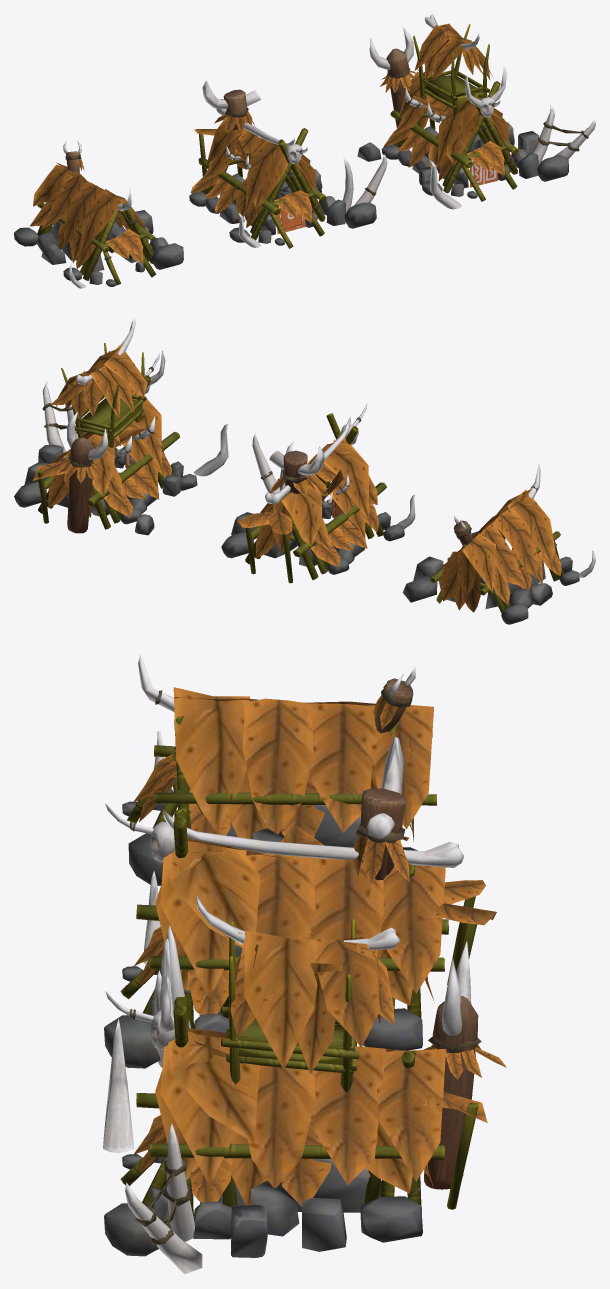
File: 3troops.fbx
3 views of the same model, one above another, from view 1: azimuth 30°, elevation 25°; view 2: azimuth 150°, elevation 25°; view 3: azimuth 270°, elevation 25° (orthographic). The views are drawn at different scales.
Visible parts, largest first — view 1: normalhouse_mantah_lv3_low, mantah_normalhouse_lv2_low, normalhouse_mantah_lv1_low; view 2: normalhouse_mantah_lv3_low, mantah_normalhouse_lv2_low, normalhouse_mantah_lv1_low; view 3: normalhouse_mantah_lv3_low, mantah_normalhouse_lv2_low, normalhouse_mantah_lv1_low.
Part boxes in pixels (x1,y1,x2,y2): normalhouse_mantah_lv3_low: (357,14,595,209); mantah_normalhouse_lv2_low: (189,80,387,248); normalhouse_mantah_lv1_low: (14,141,183,288); normalhouse_mantah_lv3_low: (14,317,228,535); mantah_normalhouse_lv2_low: (221,403,415,583); normalhouse_mantah_lv1_low: (402,462,595,624); normalhouse_mantah_lv3_low: (103,894,506,1274); mantah_normalhouse_lv2_low: (104,737,496,1068); normalhouse_mantah_lv1_low: (122,654,436,885).
Size of the model in its own units: 357 by 103 by 120.
1 material, 1 textured.
